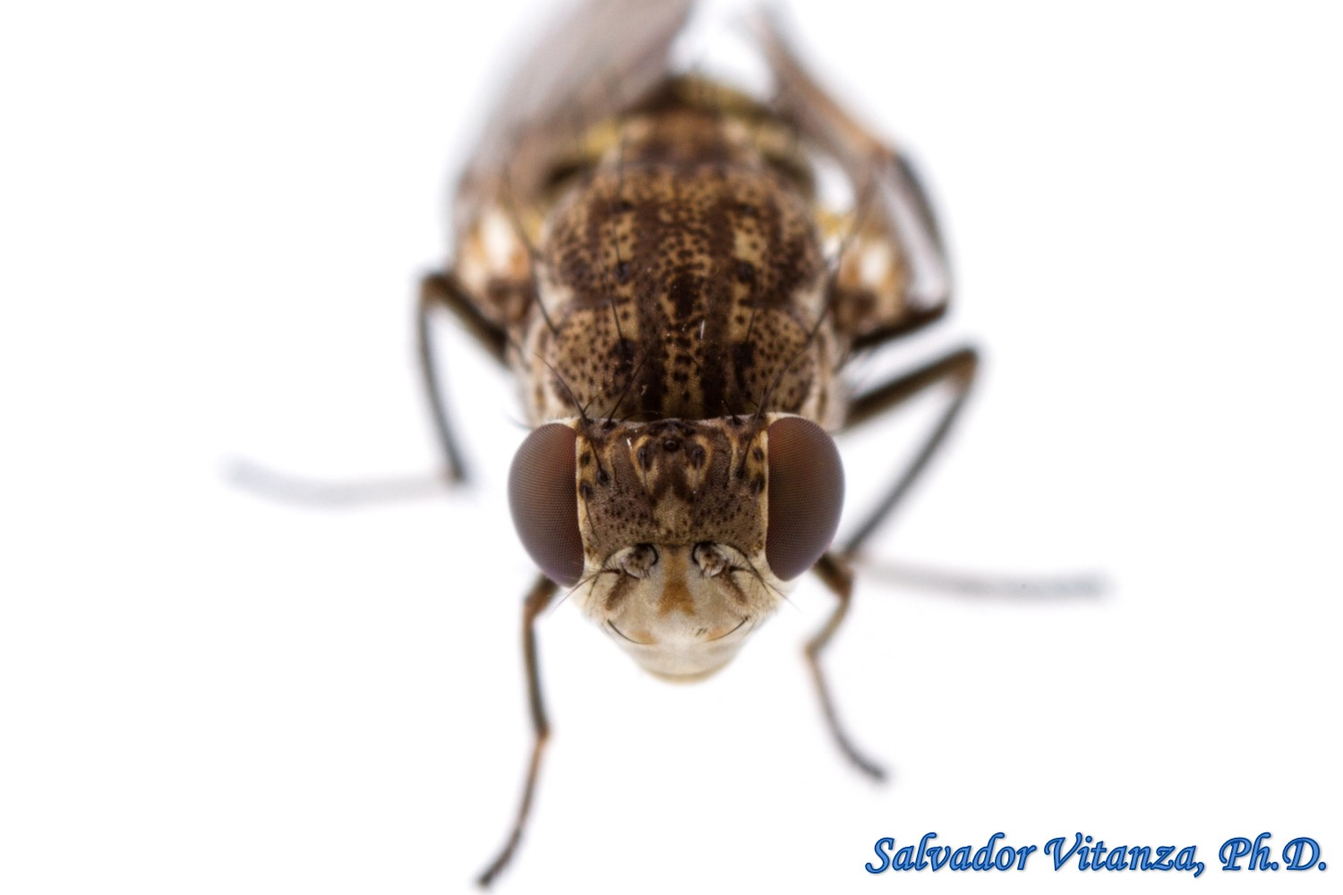Ephydridae: (232, 1, 1080, 883)
